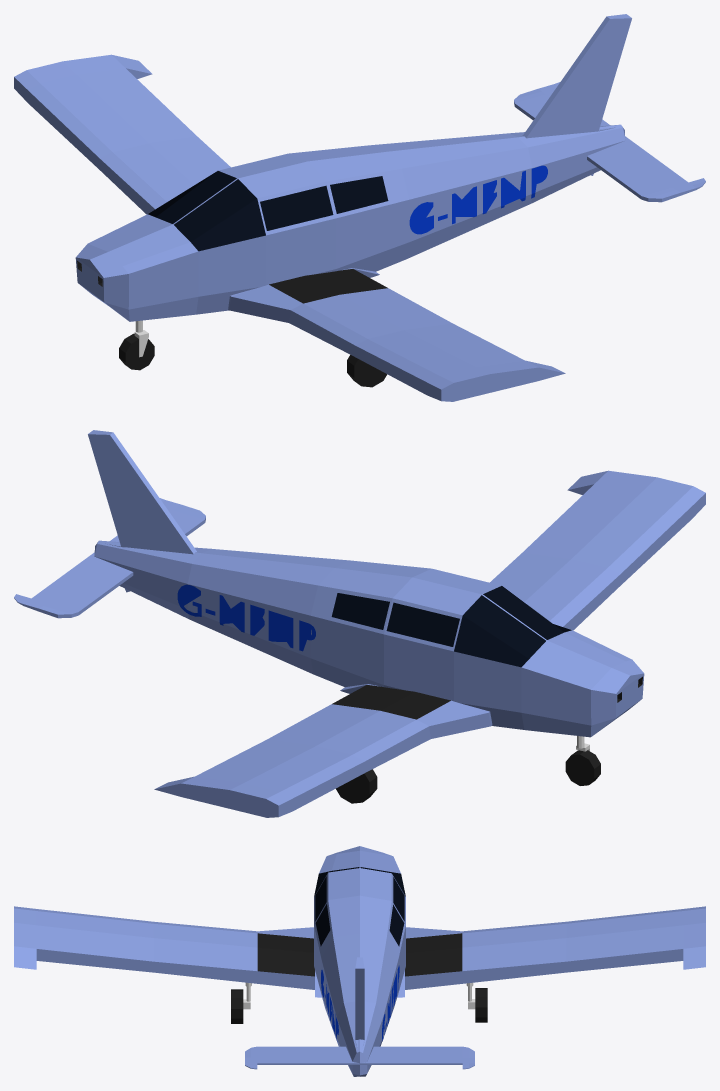
File: PiperPA28(MainBody).fbx
3 views of the same model, one above another, from view 1: azimuth 30°, elevation 25°; view 2: azimuth 150°, elevation 25°; view 3: azimuth 270°, elevation 25° (orthographic). The views are drawn at different scales.
Parts seen in each view (by area): view 1: Fuselage; view 2: Fuselage; view 3: Fuselage.
Boxes of the visible parts, x1,y1,x2,y2 form: Fuselage: [14, 14, 705, 401]; Fuselage: [14, 430, 705, 817]; Fuselage: [14, 846, 705, 1076].
Bounding box in the file's own units: 806 × 329 × 1084.
